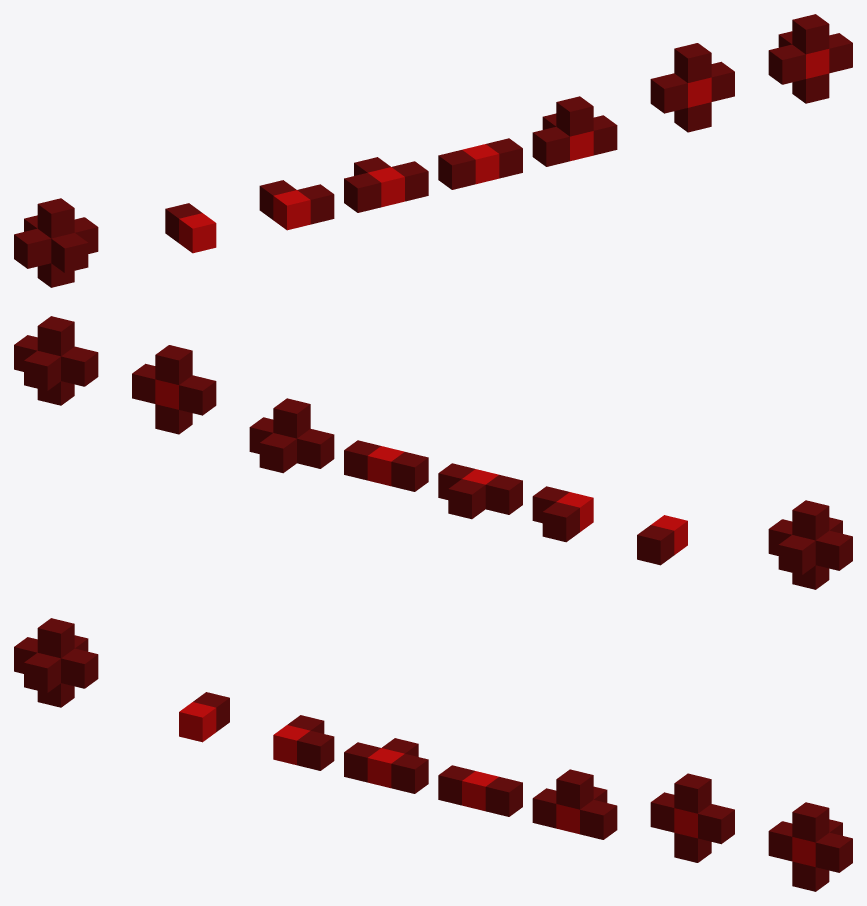
Rendered from CubeArrangement.obj.
The picture shows the model from 3 angles, top to bottom: view 1: azimuth 30°, elevation 25°; view 2: azimuth 150°, elevation 25°; view 3: azimuth 330°, elevation 25°; orthographic projection.
Bounding box in the file's own units: 35 × 3 × 3.
1 material, 1 textured.
